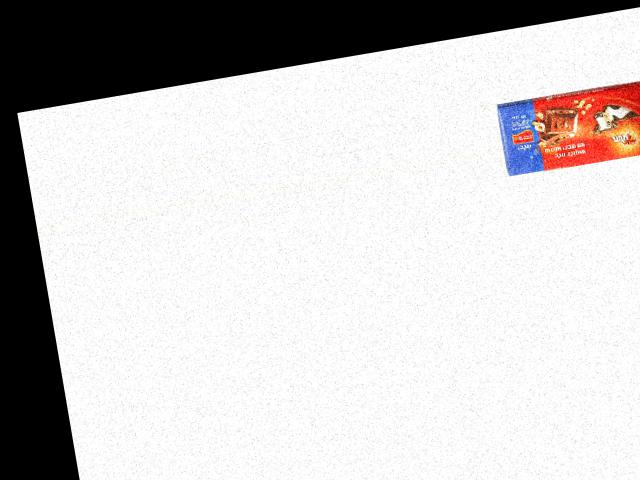chocolate: (496, 80, 640, 176)
